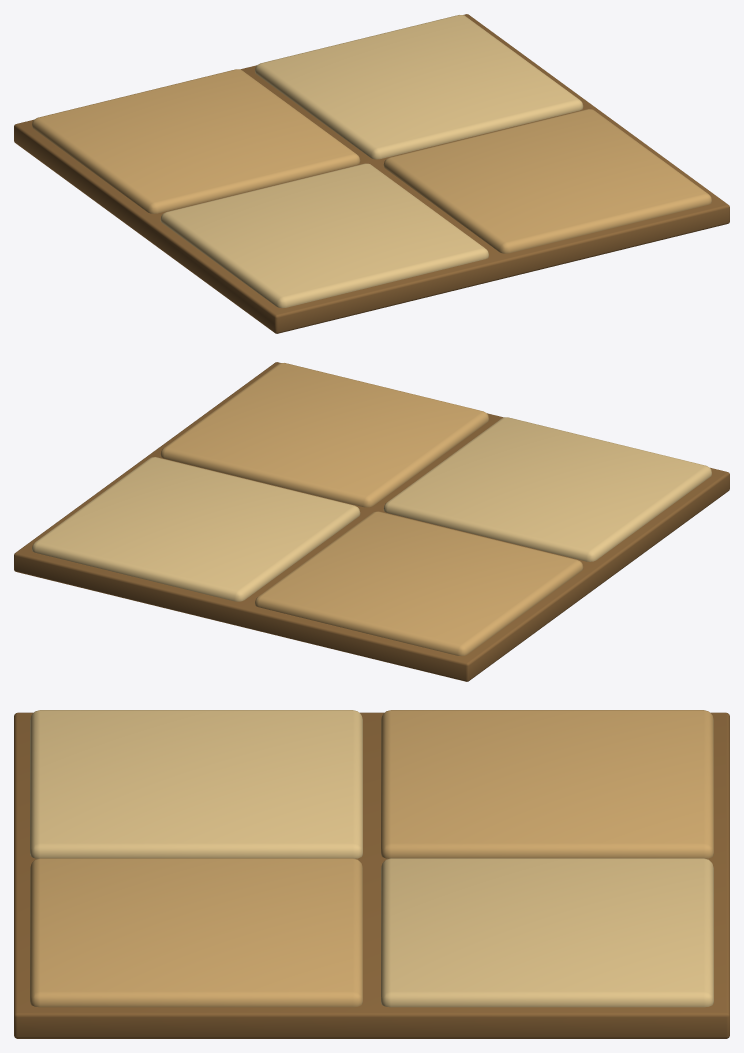
Rendered from floor_kitchen.gltf.
3 renders of one model, top to bottom at view 1: azimuth 30°, elevation 25°; view 2: azimuth 150°, elevation 25°; view 3: azimuth 270°, elevation 25°, orthographic. The views are drawn at different scales.
Parts seen in each view (by area): view 1: FloorGroutBed; view 2: FloorGroutBed; view 3: FloorGroutBed.
Part boxes in pixels (x1=…): FloorGroutBed: x1=14, y1=14, x2=729, y2=333; FloorGroutBed: x1=14, y1=362, x2=729, y2=681; FloorGroutBed: x1=14, y1=710, x2=729, y2=1038.
Bounding box in the file's own units: 1 × 0.058 × 1.
